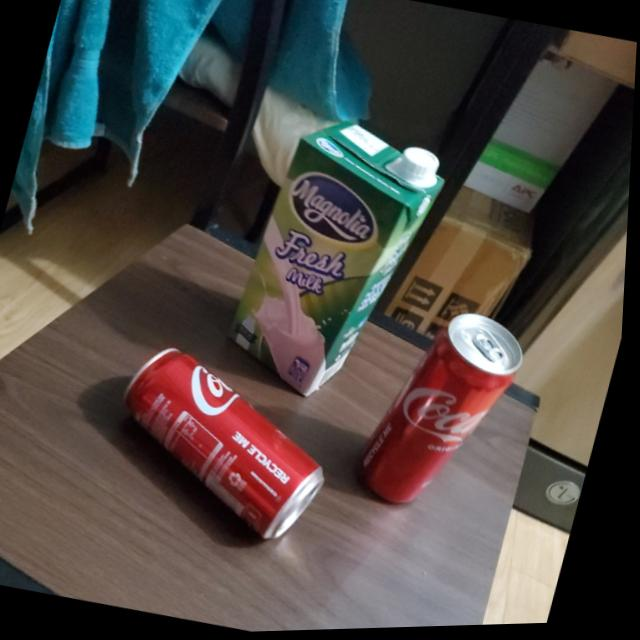coke: (102, 336, 357, 552), (348, 298, 536, 528)
milk: (211, 104, 455, 419)
